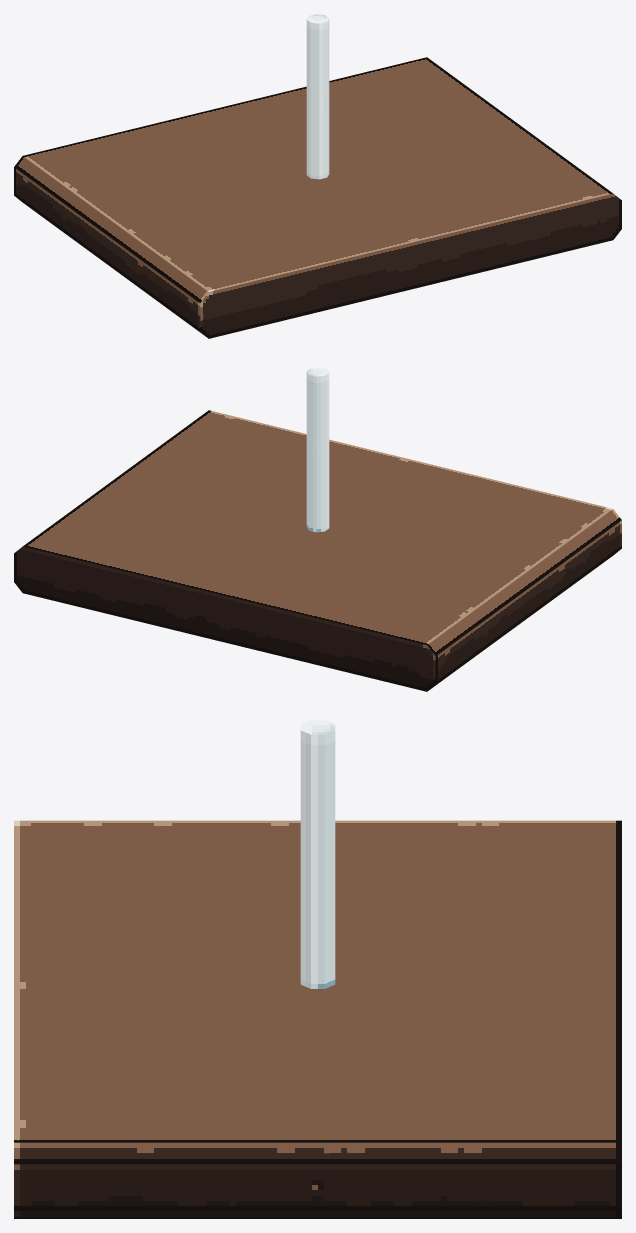
The model's file is kinkei.glb.
The picture shows the model from 3 angles, top to bottom: view 1: azimuth 30°, elevation 25°; view 2: azimuth 150°, elevation 25°; view 3: azimuth 270°, elevation 25°; orthographic projection. The views are drawn at different scales.
Visible parts, largest first — view 1: base, rod; view 2: base, rod; view 3: base, rod.
Boxes of the visible parts, x1,y1,x2,y2 form: base: (14, 57, 621, 338); rod: (306, 14, 329, 179); base: (14, 410, 621, 691); rod: (306, 367, 329, 532); base: (14, 820, 621, 1218); rod: (300, 720, 335, 988).
Size of the model in its own units: 34 by 15.6 by 26.
1 material, 1 textured.
